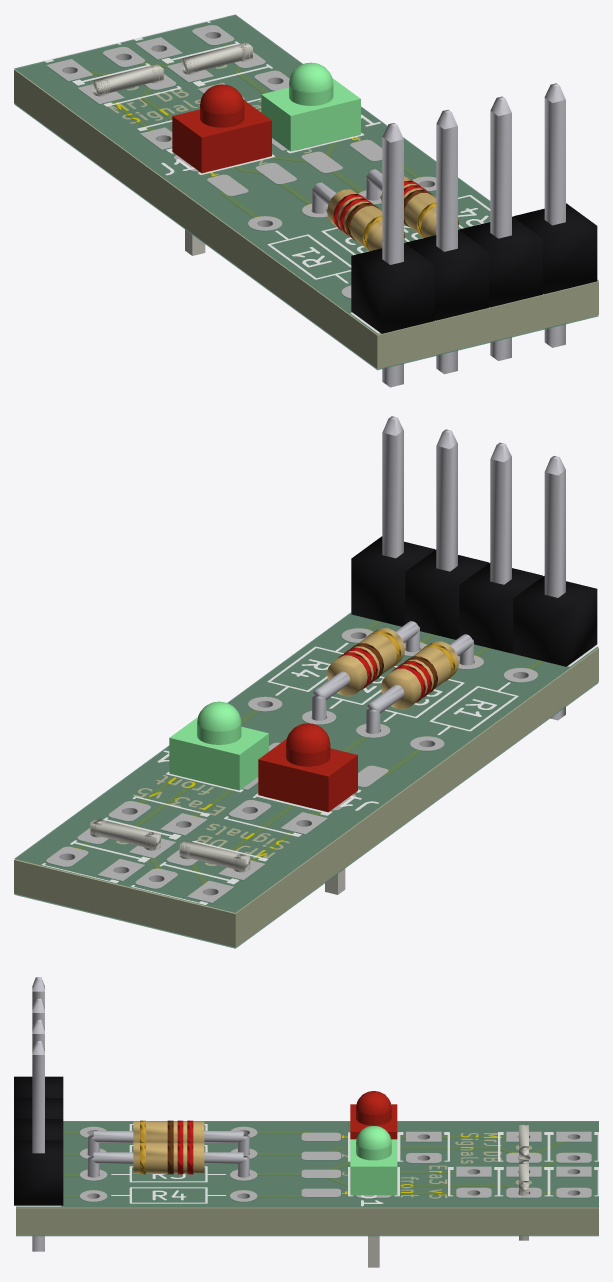
Rendered from MrJ-DB-Era3-breadboard-bloc-Hp1.glb.
The picture shows the model from 3 angles, top to bottom: view 1: azimuth 30°, elevation 25°; view 2: azimuth 150°, elevation 25°; view 3: azimuth 270°, elevation 25°; orthographic projection. The views are drawn at different scales.
Parts seen in each view (by area): view 1: =>[0:1:1:17], =>[0:1:1:3] (×4), =>[0:1:1:15], =>[0:1:1:13], =>[0:1:1:11], =>[0:1:1:5], =>[0:1:1:9] (×2), =>[0:1:1:14], =>[0:1:1:7] (×2), =>[0:1:1:12], =>[0:1:1:16]; view 2: =>[0:1:1:17], =>[0:1:1:15], =>[0:1:1:3] (×4), =>[0:1:1:13], =>[0:1:1:9] (×2), =>[0:1:1:11], =>[0:1:1:5], =>[0:1:1:14], =>[0:1:1:7] (×2), =>[0:1:1:12], =>[0:1:1:16]; view 3: =>[0:1:1:17], =>[0:1:1:15], =>[0:1:1:3] (×4), =>[0:1:1:13], =>[0:1:1:9] (×2), =>[0:1:1:5], =>[0:1:1:14], =>[0:1:1:11], =>[0:1:1:12], =>[0:1:1:16], =>[0:1:1:7].
Boxes of the visible parts, x1,y1,x2,y2 form: =>[0:1:1:17]: [14, 16, 598, 369]; =>[0:1:1:3] (×4): [351, 83, 597, 387]; =>[0:1:1:15]: [14, 14, 598, 334]; =>[0:1:1:13]: [46, 25, 436, 298]; =>[0:1:1:11]: [172, 84, 271, 255]; =>[0:1:1:5]: [261, 62, 360, 151]; =>[0:1:1:9] (×2): [312, 169, 458, 250]; =>[0:1:1:14]: [44, 20, 490, 333]; =>[0:1:1:7] (×2): [92, 42, 252, 96]; =>[0:1:1:12]: [88, 43, 420, 218]; =>[0:1:1:16]: [14, 104, 598, 370]; =>[0:1:1:17]: [14, 614, 598, 947]; =>[0:1:1:15]: [14, 612, 598, 912]; =>[0:1:1:3] (×4): [351, 416, 597, 720]; =>[0:1:1:13]: [46, 628, 537, 903]; =>[0:1:1:9] (×2): [312, 621, 473, 733]; =>[0:1:1:11]: [258, 723, 357, 894]; =>[0:1:1:5]: [169, 701, 268, 790]; =>[0:1:1:14]: [41, 612, 597, 904]; =>[0:1:1:7] (×2): [90, 818, 250, 872]; =>[0:1:1:12]: [76, 621, 542, 884]; =>[0:1:1:16]: [14, 682, 598, 948]; =>[0:1:1:17]: [16, 1122, 598, 1235]; =>[0:1:1:15]: [16, 1121, 598, 1207]; =>[0:1:1:3] (×4): [14, 977, 63, 1251]; =>[0:1:1:13]: [80, 1127, 591, 1201]; =>[0:1:1:9] (×2): [87, 1120, 249, 1177]; =>[0:1:1:5]: [350, 1126, 397, 1267]; =>[0:1:1:14]: [16, 1124, 598, 1206]; =>[0:1:1:11]: [350, 1091, 397, 1139]; =>[0:1:1:12]: [64, 1132, 564, 1197]; =>[0:1:1:16]: [16, 1235, 598, 1236]; =>[0:1:1:7]: [519, 1160, 528, 1240].
Bounding box in the file's own units: 0.0104 × 0.0127 × 0.0297.
